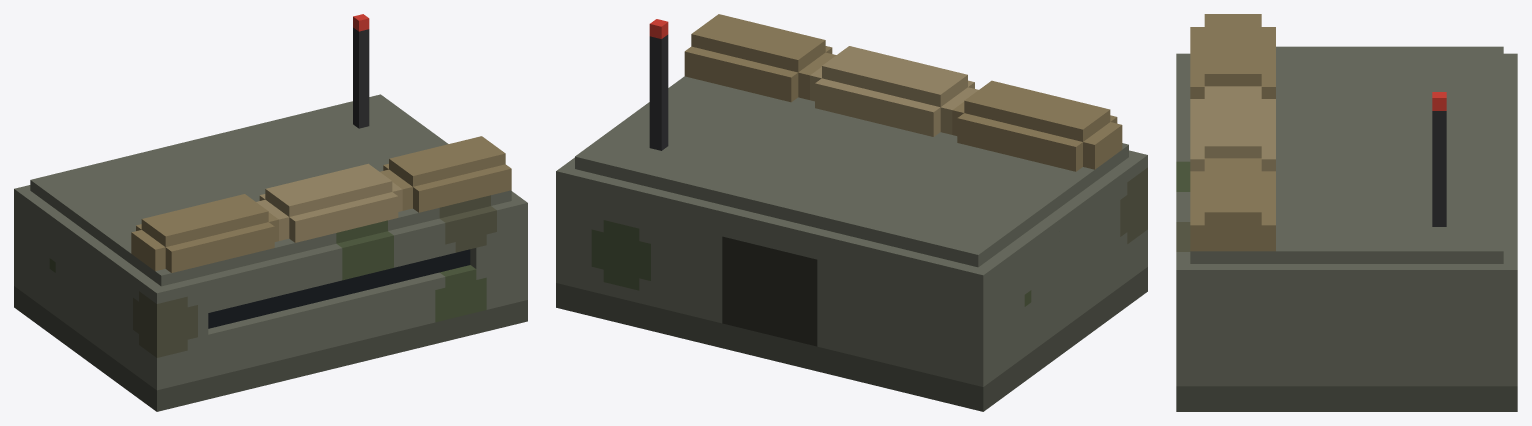
Rendered from prop_bunker.glb.
The picture shows the model from 3 angles, left to right: view 1: azimuth 30°, elevation 25°; view 2: azimuth 150°, elevation 25°; view 3: azimuth 270°, elevation 25°; orthographic projection. The views are drawn at different scales.
Parts seen in each view (by area): view 1: prop_bunker; view 2: prop_bunker; view 3: prop_bunker.
Part boxes in pixels (left/top/right/bottom): prop_bunker: left=14, top=14, right=527, bottom=411; prop_bunker: left=556, top=14, right=1147, bottom=411; prop_bunker: left=1176, top=14, right=1517, bottom=411.
Size of the model in its own units: 3.6 by 2.2 by 2.4.
